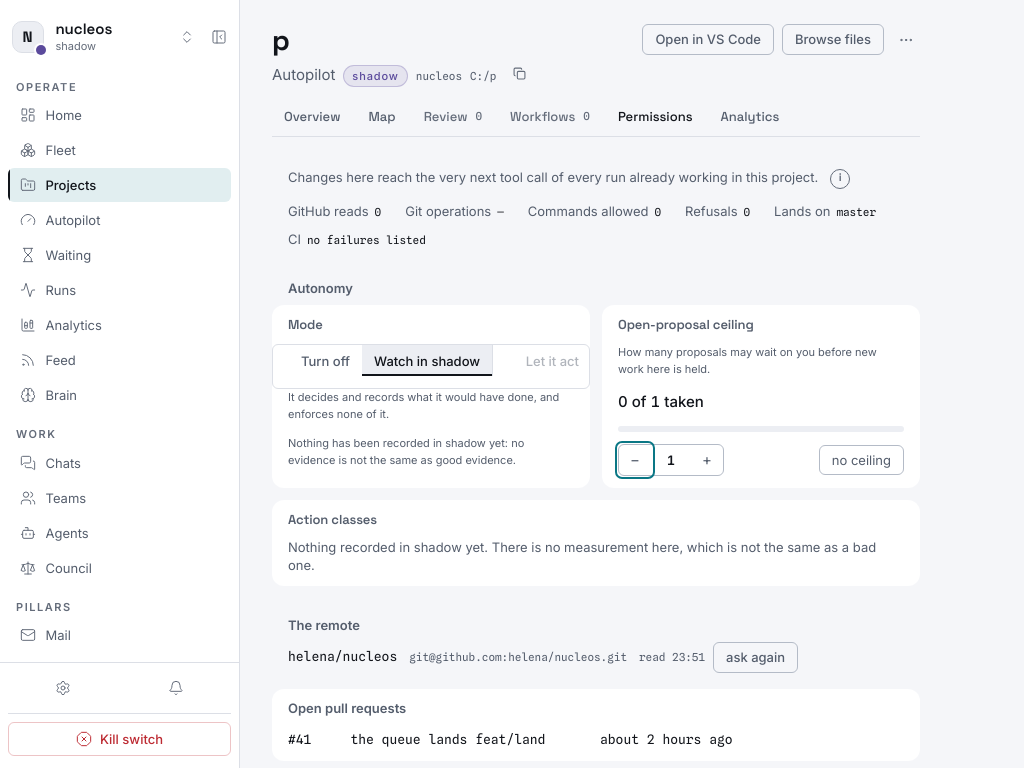
Test: the open-proposal ceiling › keeps focus on the step that lowered the ceiling to zero
The width and height of the screenshot is (1024, 768).
Click the button named "Lower the ceiling".
click(635, 460)  # box [619,445,651,475]
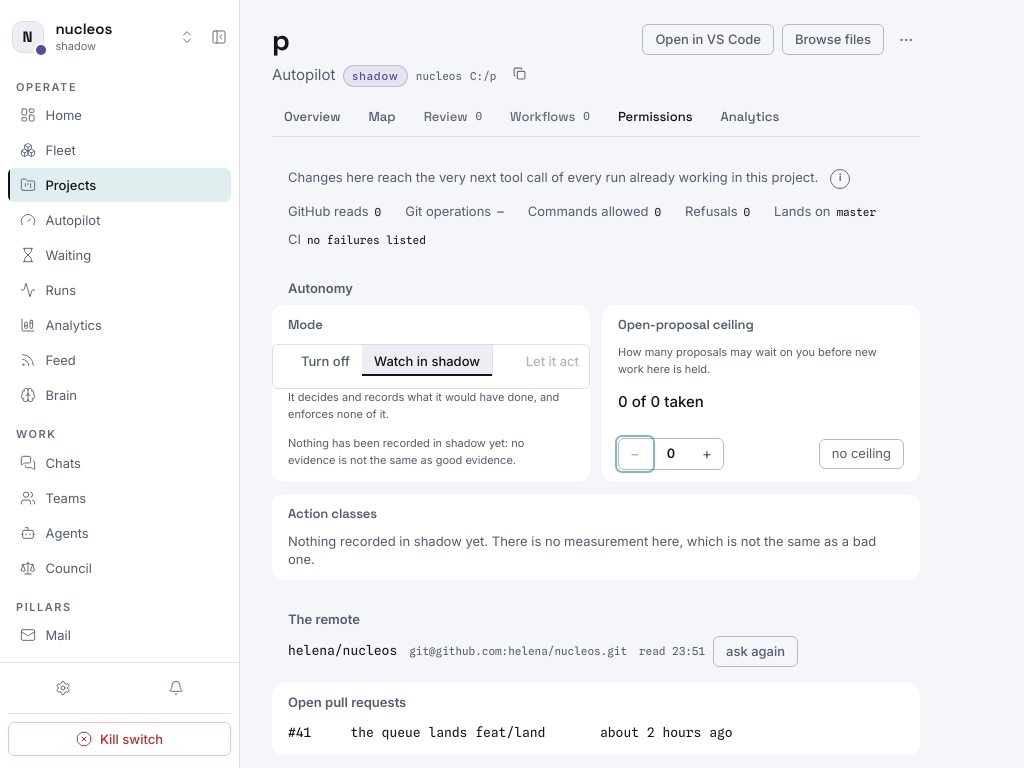
Check: the text "0 of 0 taken" is shown, box [618,392,704,411]
